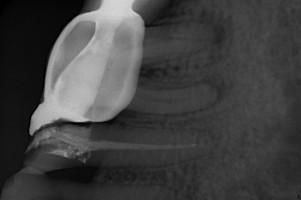Furcation Involvement: (197, 72, 233, 102), (213, 25, 226, 45)
